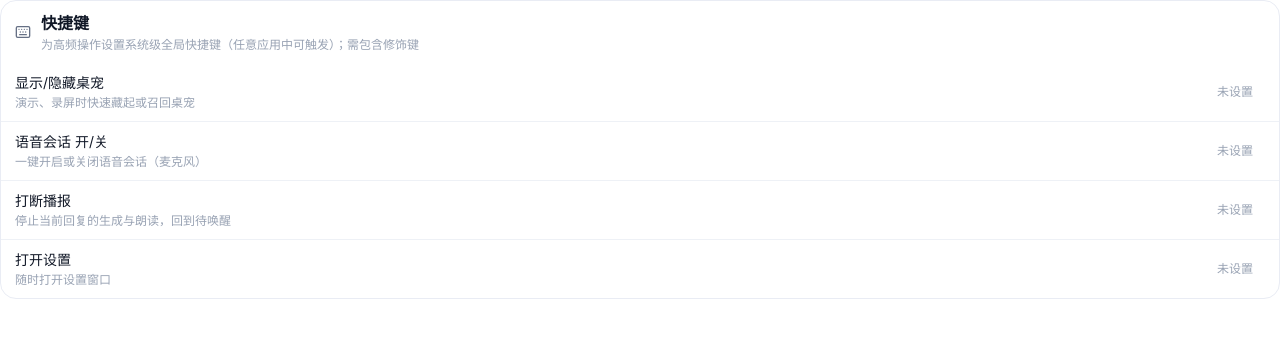
ShortcutsSection › 应用内冲突：同键已绑定其他操作 → 本地拦截提示，不发请求
Check: the button with aria-label "设置 打断播报 快捷键" is shown, box [1205,194,1265,226]
Click the button with aria-label "设置 语音会话 开/关 快捷键": point(1235, 151) [1205,135,1265,167]
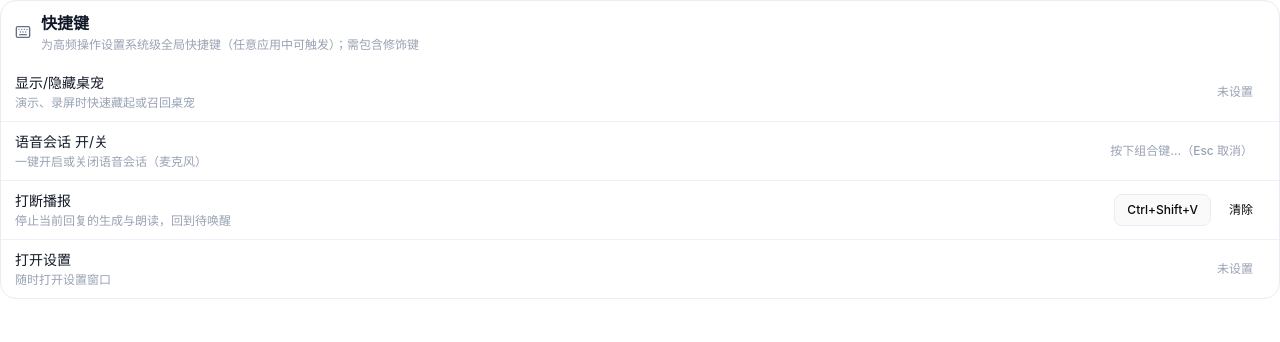
Press KeyV
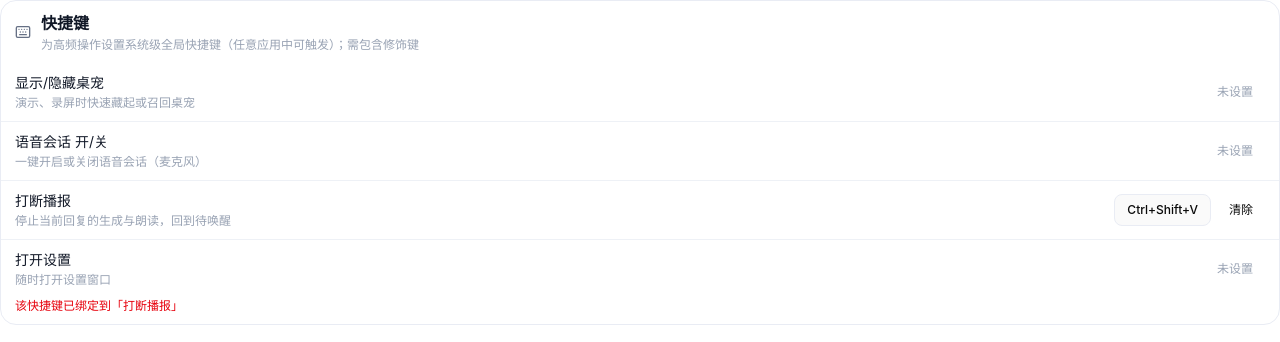
Check: the text "该快捷键已绑定到「打断播报」" is shown, box [15,298,183,313]
